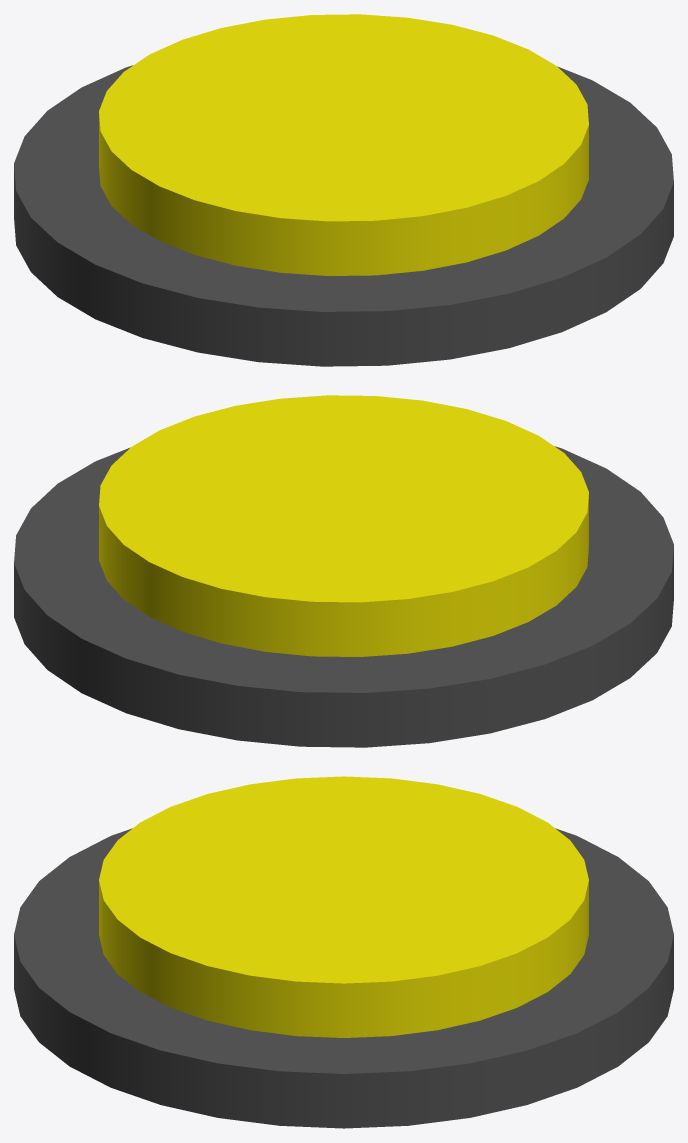
Rendered from button_yellow.fbx.
3 renders of one model, top to bottom at view 1: azimuth 30°, elevation 25°; view 2: azimuth 150°, elevation 25°; view 3: azimuth 270°, elevation 25°, orthographic.
Parts seen in each view (by area): view 1: Mesh; view 2: Mesh; view 3: Mesh.
Boxes of the visible parts, <box> form: Mesh: <box>14,14,673,366</box>; Mesh: <box>14,395,673,747</box>; Mesh: <box>14,776,673,1128</box>.
Size of the model in its own units: 1 by 0.1823 by 1.
